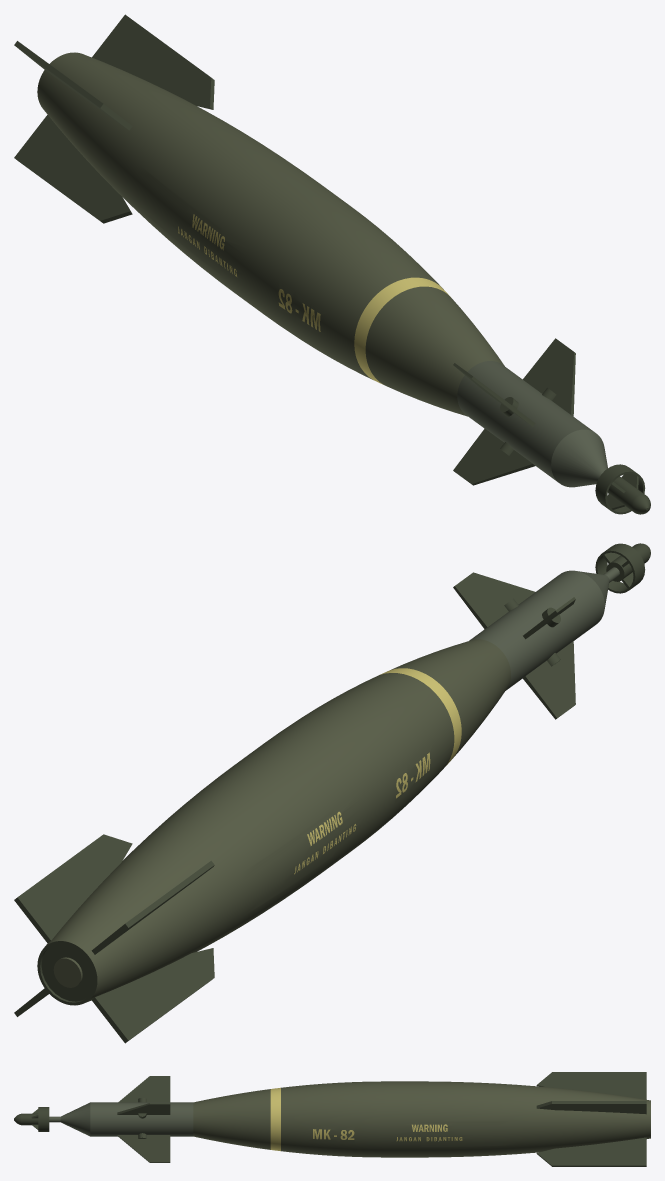
The model's file is guided_bomb_unit_-_12____gbu_12.glb.
3 views of the same model, one above another, from view 1: azimuth 30°, elevation 25°; view 2: azimuth 150°, elevation 25°; view 3: azimuth 270°, elevation 25° (orthographic). The views are drawn at different scales.
Parts seen in each view (by area): view 1: Material3 (×3), Material2; view 2: Material3 (×3), Material2; view 3: Material3 (×3), Material2.
Boxes of the visible parts, x1,y1,x2,y2 form: Material3 (×3): [37, 52, 607, 487]; Material2: [14, 14, 650, 514]; Material3 (×3): [45, 567, 619, 1002]; Material2: [14, 543, 650, 1043]; Material3 (×3): [49, 1081, 650, 1157]; Material2: [14, 1072, 646, 1166].
Size of the model in its own units: 3.44 by 3.44 by 28.78.
